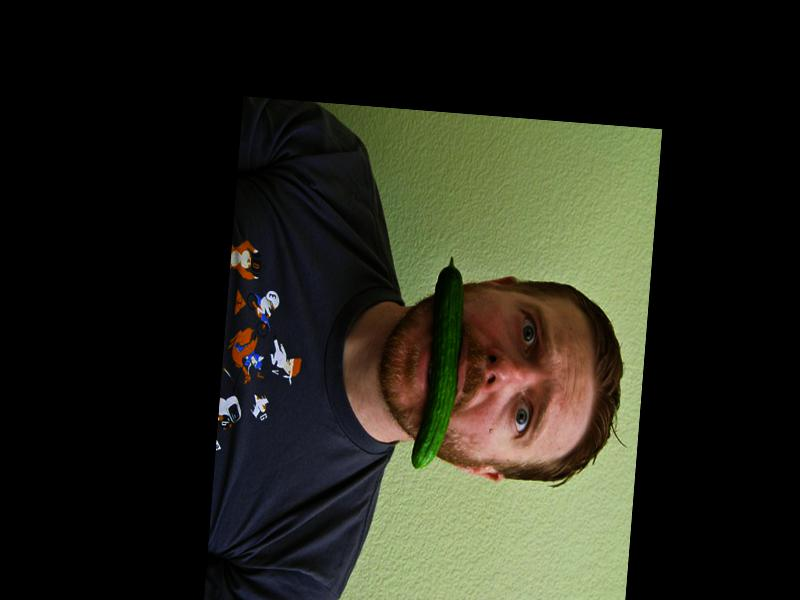Cucumber: (410, 254, 467, 473)
